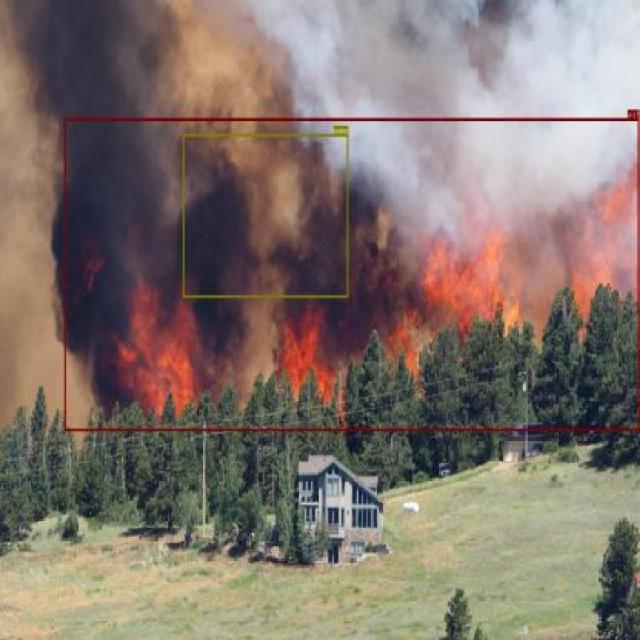Fire: (65, 117, 640, 430)
Smoke: (183, 133, 349, 298)
